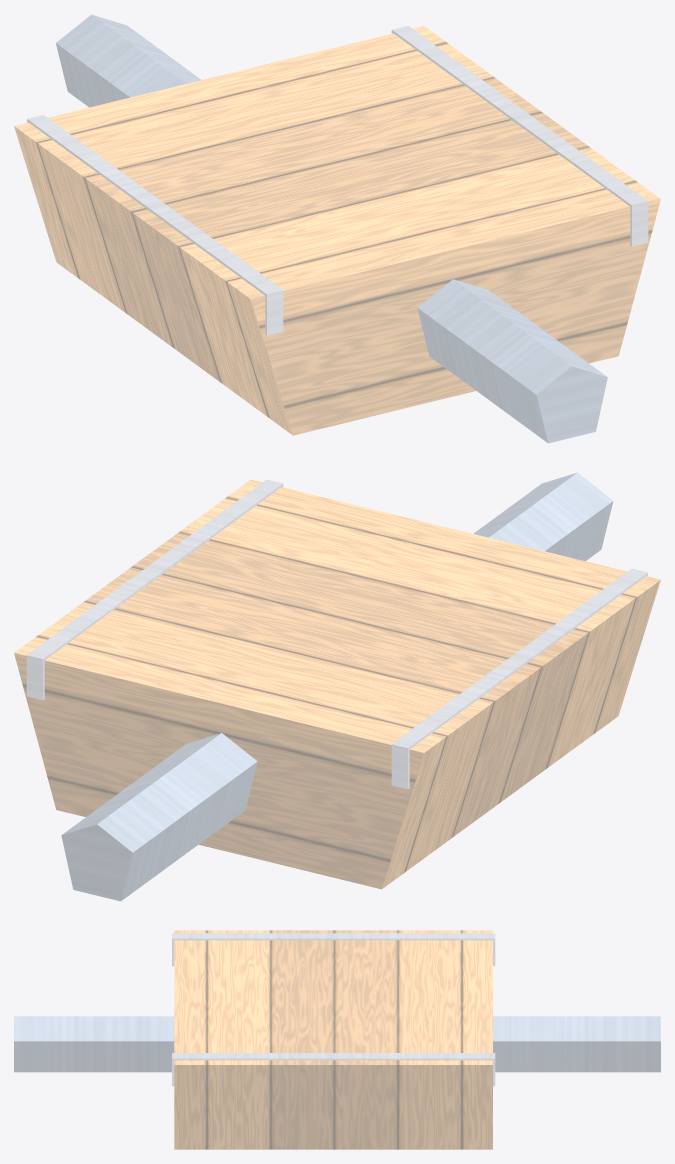
Rendered from level.gltf.
3 renders of one model, top to bottom at view 1: azimuth 30°, elevation 25°; view 2: azimuth 150°, elevation 25°; view 3: azimuth 270°, elevation 25°, orthographic. The views are drawn at different scales.
Visible parts, largest first — view 1: P_Modul_41; view 2: P_Modul_41; view 3: P_Modul_41.
Boxes of the visible parts, x1=… form: P_Modul_41: x1=14, y1=14, x2=660, y2=443; P_Modul_41: x1=14, y1=472, x2=660, y2=901; P_Modul_41: x1=14, y1=930, x2=660, y2=1149.
Bounding box in the file's own units: 5 × 1.74 × 10.15.
3 materials, 3 textured.
